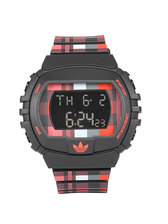watch: (16, 35, 147, 195)
